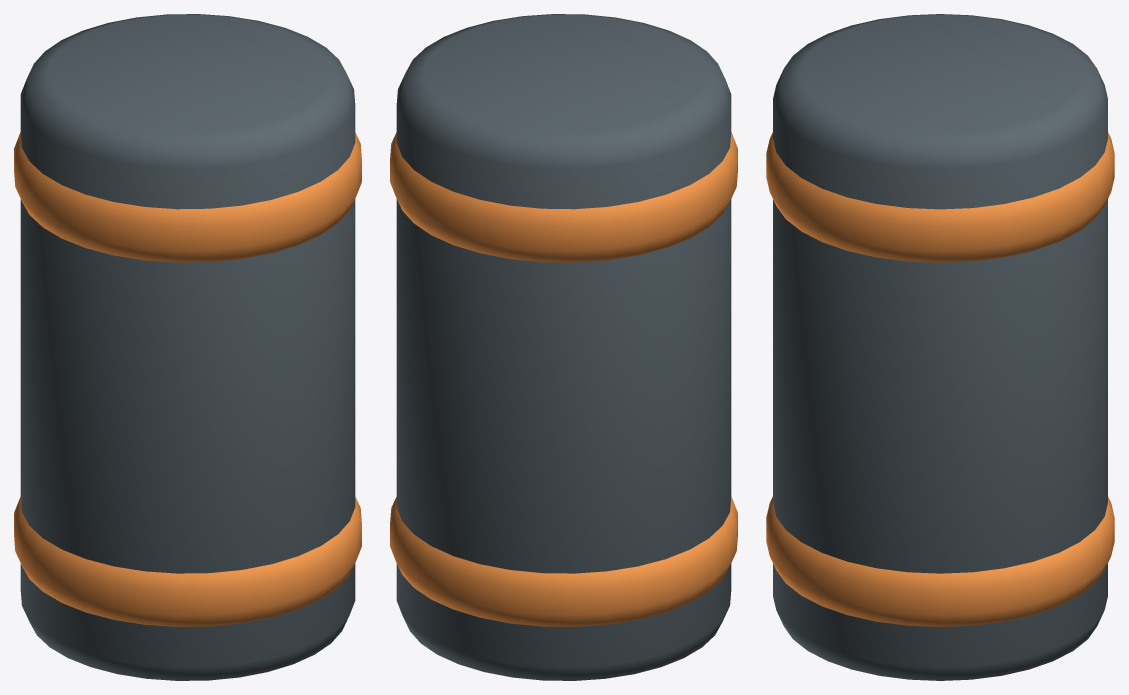
File: thumper_shell.glb
3 views of the same model, side by side, from view 1: azimuth 30°, elevation 25°; view 2: azimuth 150°, elevation 25°; view 3: azimuth 270°, elevation 25° (orthographic).
Visible parts, largest first — view 1: Static_Thumper_steel, Static_Thumper_hazard_bands; view 2: Static_Thumper_steel, Static_Thumper_hazard_bands; view 3: Static_Thumper_steel, Static_Thumper_hazard_bands.
Part boxes in pixels (<box>): Static_Thumper_steel: <box>20,14,355,680</box>; Static_Thumper_hazard_bands: <box>14,132,361,626</box>; Static_Thumper_steel: <box>396,14,731,680</box>; Static_Thumper_hazard_bands: <box>390,132,737,626</box>; Static_Thumper_steel: <box>773,14,1107,680</box>; Static_Thumper_hazard_bands: <box>766,132,1114,626</box>.
Bounding box in the file's own units: 0.104 × 0.18 × 0.104.
